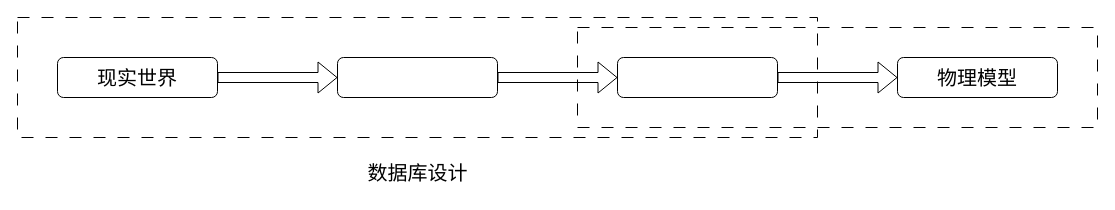
This 1115x210 diagram has some shape labels left out. The centre of each missing label's shape, as x and y in pixels:
"概念模型" belongs at [417,77].
"逻辑模型" belongs at [697,77].
